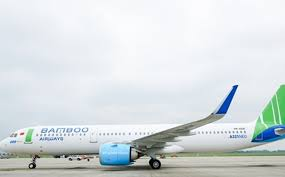maybay_dansu: (1, 96, 285, 165)
